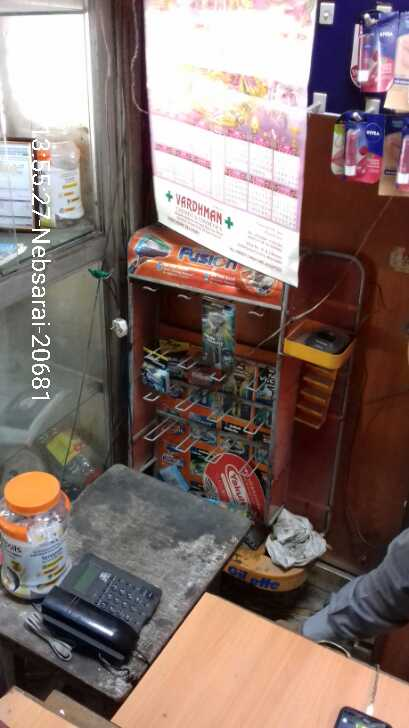reject: (125, 235, 249, 331)
